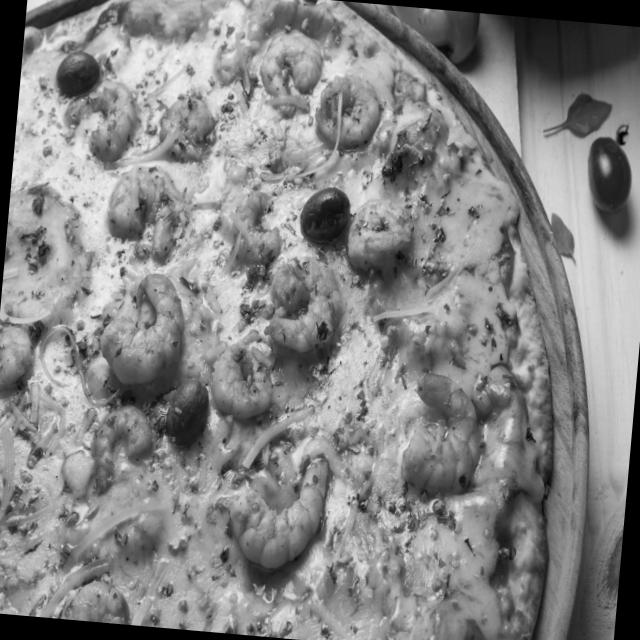camarao: (219, 440, 339, 574), (393, 365, 488, 501), (92, 266, 186, 396), (266, 241, 350, 353), (104, 158, 191, 266), (62, 62, 149, 164), (82, 396, 165, 500), (250, 26, 325, 124), (344, 192, 420, 286), (208, 336, 282, 424), (316, 72, 380, 146), (55, 578, 140, 624)
pizza: (0, 0, 598, 639)
